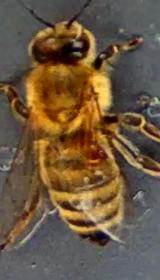varroa_mite: (72, 130, 112, 170)
